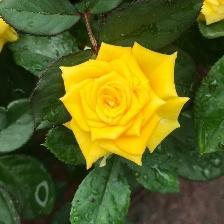rose: (59, 43, 189, 170)
